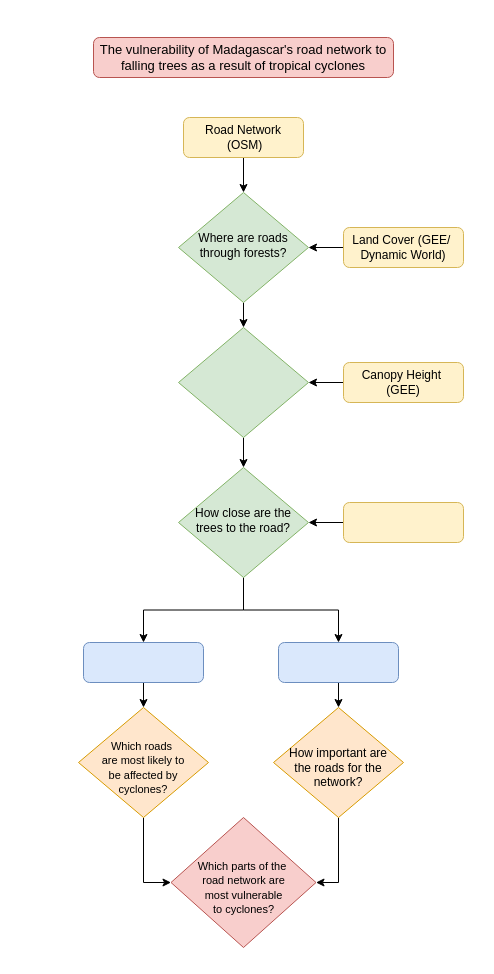
This 494x974 diagram has some shape labels left out. The centre of each missing label's shape, as x and y in pixels:
Centrality Analysis: point (338, 662)
How high are the trees next to the road?: point (243, 382)
Machine Learning (Mapillary etc.): point (403, 522)
Risk Assesssment: point (143, 662)
